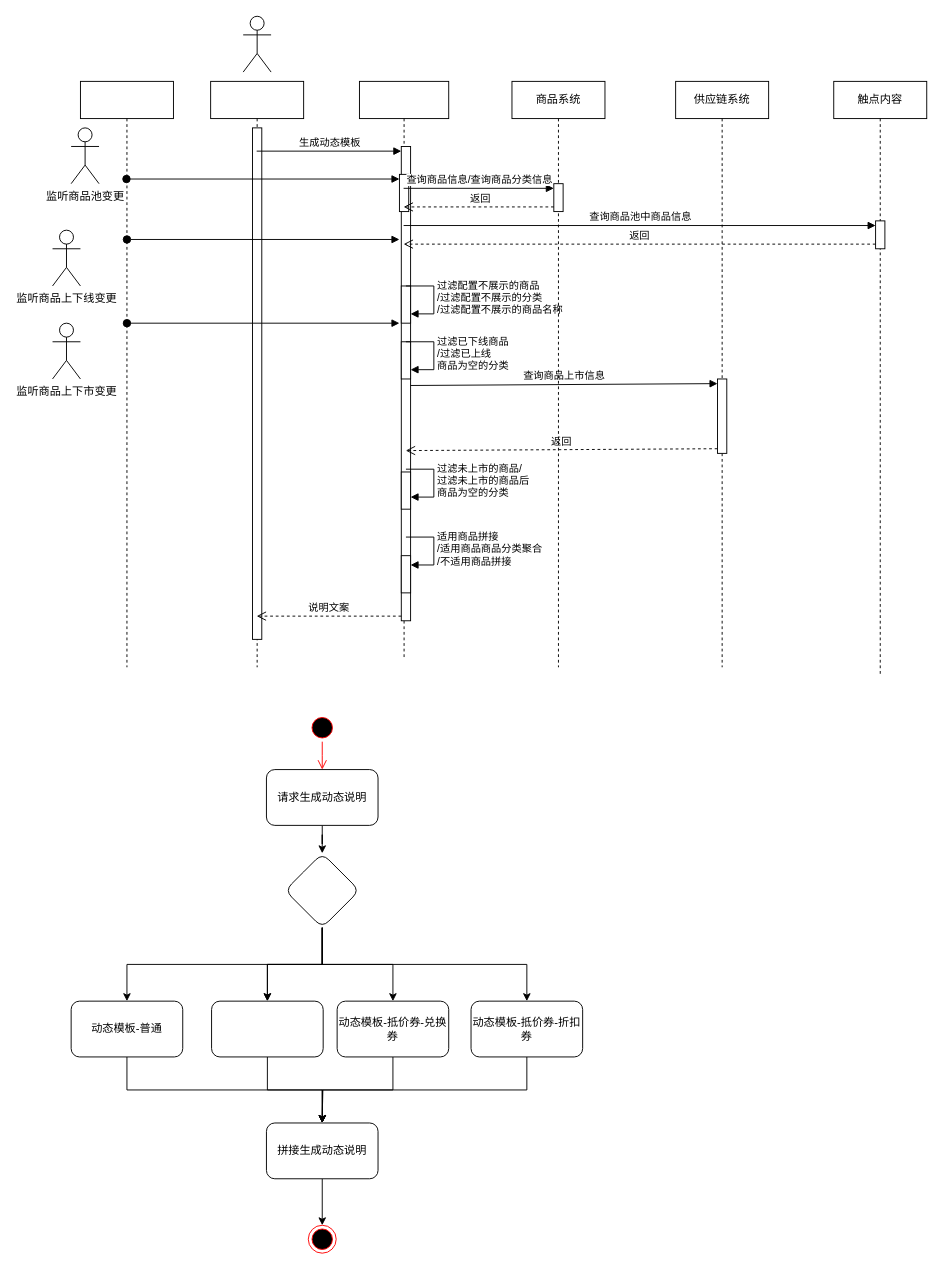
The diagram is 943 pixels wide and 1269 high, and some of its shapes have lost their labels. Here are the shapes that lost their labels. From the top down, the box of each, then its label:
(80, 80, 173, 667): MQ监听
(210, 80, 304, 667): 业务
(359, 80, 449, 658): 营销后台
(284, 852, 359, 928): 判断动态模板类型
(211, 1000, 323, 1057): 动态模板-天天9.9
